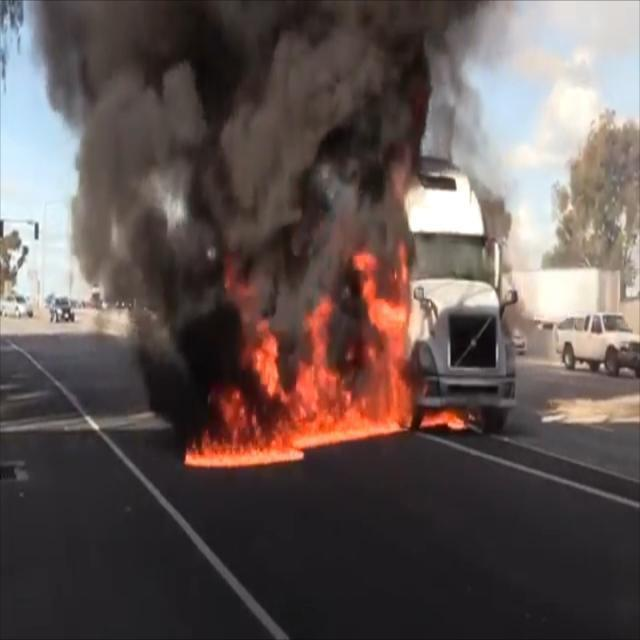fire: (182, 205, 466, 472)
